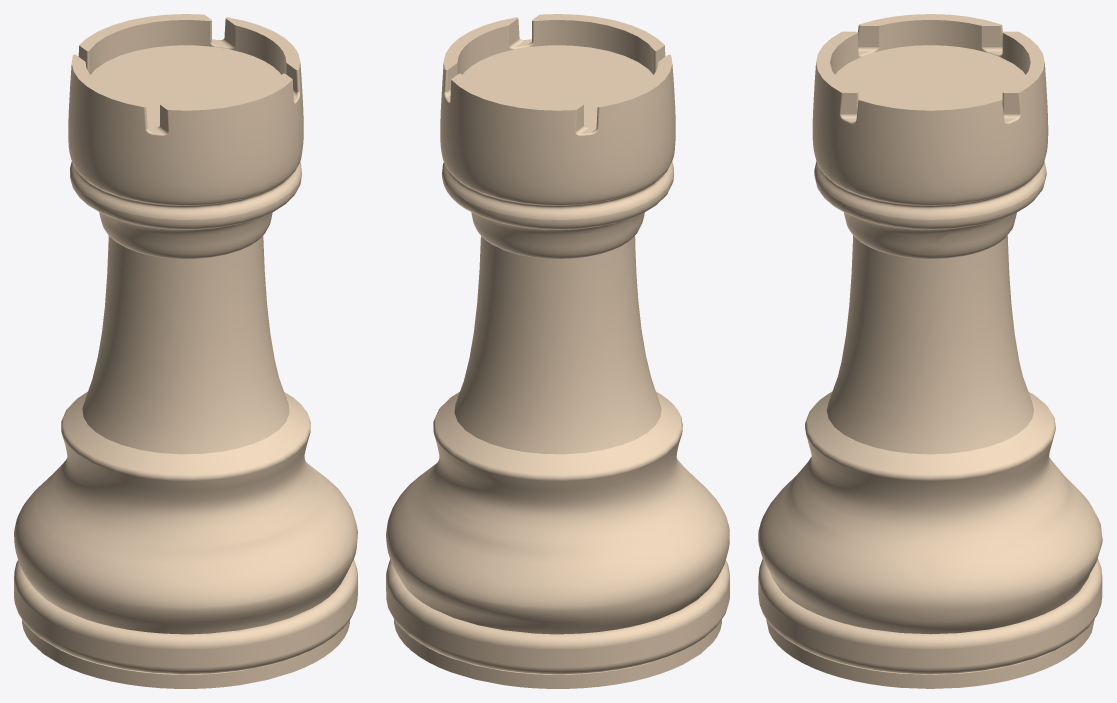
File: rook.fbx
The picture shows the model from 3 angles, left to right: view 1: azimuth 30°, elevation 25°; view 2: azimuth 150°, elevation 25°; view 3: azimuth 270°, elevation 25°; orthographic projection.
Parts seen in each view (by area): view 1: rook; view 2: rook; view 3: rook.
Part boxes in pixels (x1=…): rook: x1=14, y1=14, x2=357, y2=688; rook: x1=386, y1=14, x2=729, y2=688; rook: x1=758, y1=14, x2=1102, y2=688.
Size of the model in its own units: 1.85 by 3.3 by 1.85.
